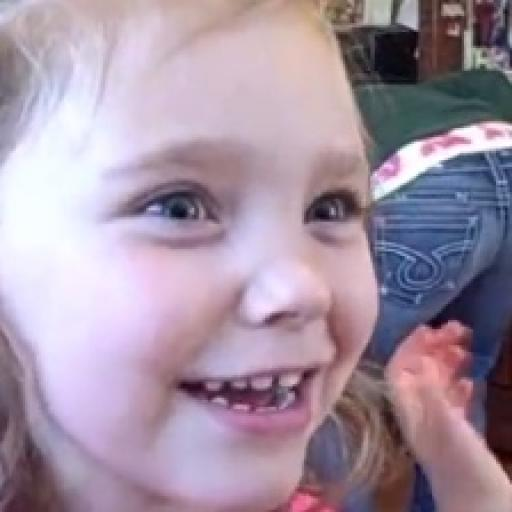Autism: (22, 17, 395, 494)
